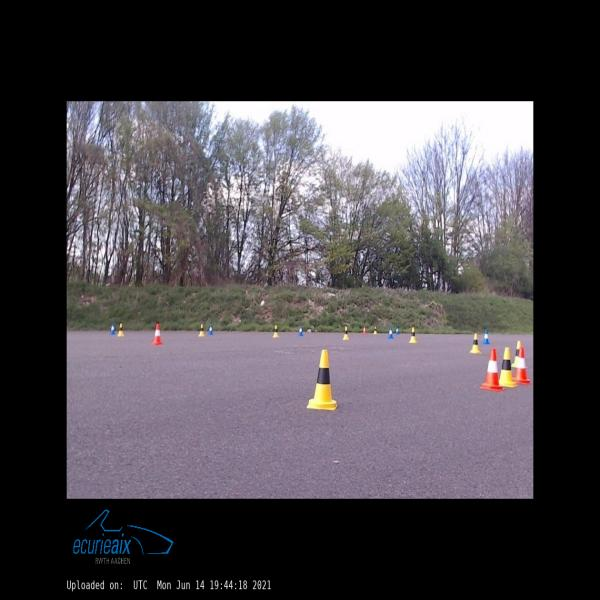blue_cone: (482, 328, 490, 344), (208, 324, 214, 335), (110, 323, 116, 334), (388, 327, 394, 338), (299, 325, 304, 336), (395, 326, 399, 335)
orange_cone: (480, 349, 504, 391), (513, 347, 531, 384), (151, 323, 163, 345), (363, 326, 366, 334)
yellow_cone: (307, 350, 337, 410), (499, 348, 518, 388), (512, 340, 520, 366), (470, 333, 480, 353), (342, 326, 350, 340), (409, 328, 417, 342), (117, 323, 125, 336), (199, 324, 205, 336), (273, 325, 279, 337), (373, 325, 377, 334)
